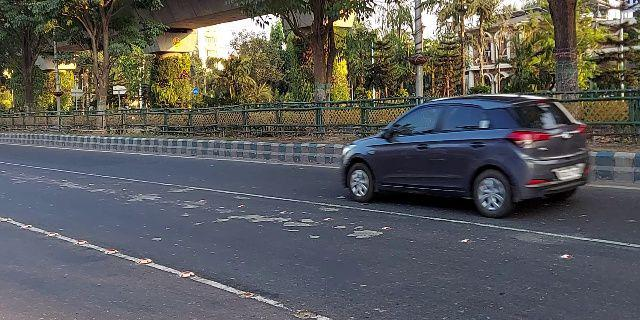Car: (338, 91, 595, 222)
